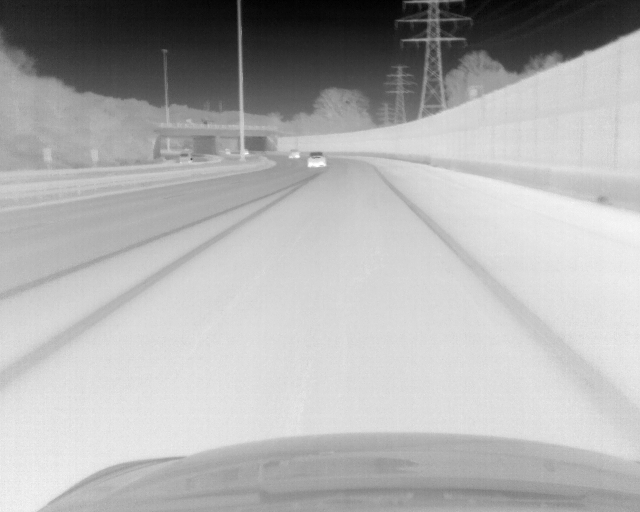car: (306, 150, 327, 168), (178, 151, 193, 164), (287, 148, 301, 159), (223, 148, 231, 154), (243, 148, 249, 155)
